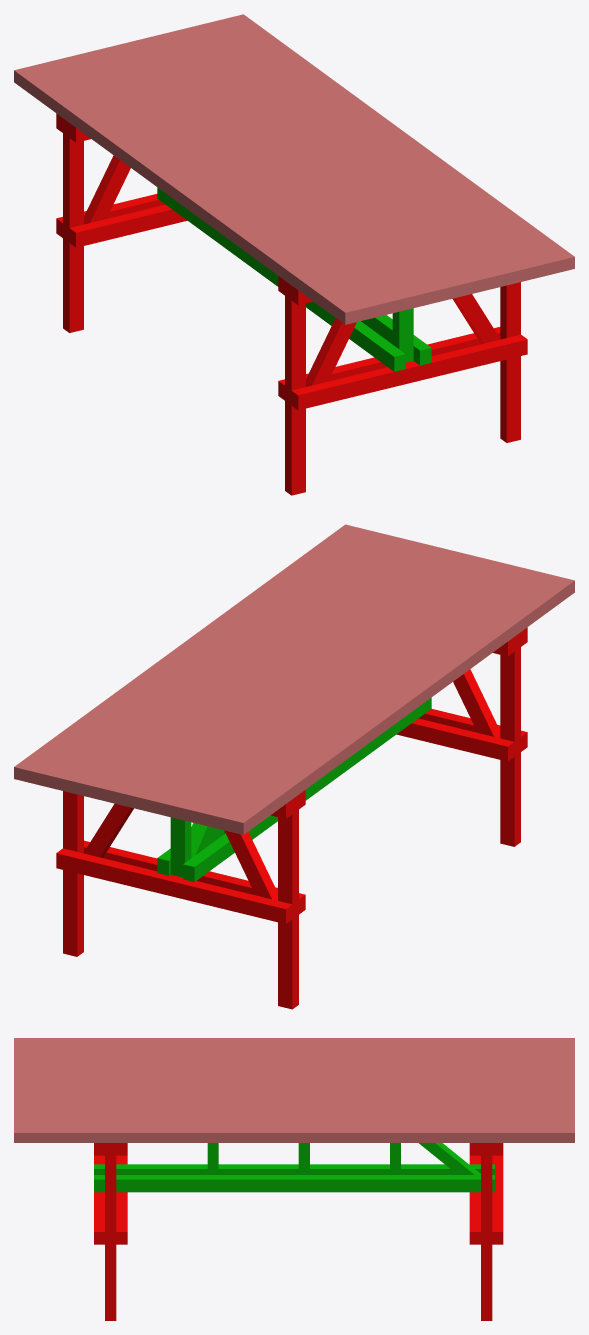
File: result.glb
The picture shows the model from 3 angles, top to bottom: view 1: azimuth 30°, elevation 25°; view 2: azimuth 150°, elevation 25°; view 3: azimuth 270°, elevation 25°; orthographic projection. The views are drawn at different scales.
Visible parts, largest first — view 1: db87daca-7387-42b3-b052-a788a2ffa1ed__Box, 322b1829-1d31-4ab4-bfac-1ec1c9b10a46__undefined, b68b924e-3d7e-4041-be38-fa900cd23723__undefined, 93b3291d-a487-42b8-a0b8-5192d35df765__undefined, 0d911585-d9e5-47ca-8335-31fbc21edb9f__undefined, 571bcf35-a337-41b6-bb2f-f9b731a2323b__undefined, 689d355f-c28f-4dd9-9fc5-7665edeaef11__undefined, e8cfa7c3-8795-4a7b-b33f-64b622ad8b55__undefined, 1eccc771-04fa-4407-ba38-74690a9849d8__undefined, f2e4cf11-1a68-4cc5-aa6c-75df8f19dbbe__undefined, a9ff9a3c-edf0-4454-99e6-d11019cb9039__undefined, bf882b4b-d7b8-426d-a3a2-a752a8e84e41__undefined (+17 smaller); view 2: db87daca-7387-42b3-b052-a788a2ffa1ed__Box, c999f0aa-ce46-4e7f-8f71-f943f68a17f7__undefined, 93b3291d-a487-42b8-a0b8-5192d35df765__undefined, a9ff9a3c-edf0-4454-99e6-d11019cb9039__undefined, b68b924e-3d7e-4041-be38-fa900cd23723__undefined, 571bcf35-a337-41b6-bb2f-f9b731a2323b__undefined, 80703927-08ad-4eda-bd57-ac3aa9b2250d__undefined, 689d355f-c28f-4dd9-9fc5-7665edeaef11__undefined, 237e048d-c541-4504-8d60-b9554f3b9e59__undefined, fac40c47-d0f8-4bc3-a3a0-9054fa31c8b9__undefined, 0d911585-d9e5-47ca-8335-31fbc21edb9f__undefined, 1e1f6225-e174-405a-a6c0-046cbddf5c19__undefined (+16 smaller); view 3: 0d911585-d9e5-47ca-8335-31fbc21edb9f__undefined, 77f3f758-c9be-4143-b099-3e19cd5e8864__strutH, 322b1829-1d31-4ab4-bfac-1ec1c9b10a46__undefined, 571bcf35-a337-41b6-bb2f-f9b731a2323b__undefined, 689d355f-c28f-4dd9-9fc5-7665edeaef11__undefined, e8cfa7c3-8795-4a7b-b33f-64b622ad8b55__undefined, 93b3291d-a487-42b8-a0b8-5192d35df765__undefined, 1e1f6225-e174-405a-a6c0-046cbddf5c19__undefined, 1eccc771-04fa-4407-ba38-74690a9849d8__undefined, 80703927-08ad-4eda-bd57-ac3aa9b2250d__undefined, 144e31b2-8e59-41a8-9036-b15721f3a0d5__strutH, db87daca-7387-42b3-b052-a788a2ffa1ed__Box (+15 smaller).
Boxes of the visible parts, x1,y1,x2,y2 form: db87daca-7387-42b3-b052-a788a2ffa1ed__Box: [14, 67, 359, 324]; 322b1829-1d31-4ab4-bfac-1ec1c9b10a46__undefined: [57, 56, 402, 314]; b68b924e-3d7e-4041-be38-fa900cd23723__undefined: [28, 63, 373, 321]; 93b3291d-a487-42b8-a0b8-5192d35df765__undefined: [115, 42, 460, 300]; 0d911585-d9e5-47ca-8335-31fbc21edb9f__undefined: [229, 14, 574, 272]; 571bcf35-a337-41b6-bb2f-f9b731a2323b__undefined: [72, 53, 416, 310]; 689d355f-c28f-4dd9-9fc5-7665edeaef11__undefined: [86, 49, 431, 307]; e8cfa7c3-8795-4a7b-b33f-64b622ad8b55__undefined: [100, 46, 445, 303]; 1eccc771-04fa-4407-ba38-74690a9849d8__undefined: [143, 35, 488, 292]; f2e4cf11-1a68-4cc5-aa6c-75df8f19dbbe__undefined: [186, 25, 531, 282]; a9ff9a3c-edf0-4454-99e6-d11019cb9039__undefined: [201, 21, 546, 279]; bf882b4b-d7b8-426d-a3a2-a752a8e84e41__undefined: [215, 18, 560, 275]; db87daca-7387-42b3-b052-a788a2ffa1ed__Box: [229, 577, 574, 834]; c999f0aa-ce46-4e7f-8f71-f943f68a17f7__undefined: [56, 848, 292, 924]; 93b3291d-a487-42b8-a0b8-5192d35df765__undefined: [128, 552, 473, 810]; a9ff9a3c-edf0-4454-99e6-d11019cb9039__undefined: [42, 531, 387, 789]; b68b924e-3d7e-4041-be38-fa900cd23723__undefined: [215, 573, 559, 831]; 571bcf35-a337-41b6-bb2f-f9b731a2323b__undefined: [172, 563, 517, 820]; 80703927-08ad-4eda-bd57-ac3aa9b2250d__undefined: [85, 542, 430, 799]; 689d355f-c28f-4dd9-9fc5-7665edeaef11__undefined: [157, 559, 502, 817]; 237e048d-c541-4504-8d60-b9554f3b9e59__undefined: [200, 570, 545, 827]; fac40c47-d0f8-4bc3-a3a0-9054fa31c8b9__undefined: [71, 538, 416, 796]; 0d911585-d9e5-47ca-8335-31fbc21edb9f__undefined: [14, 524, 358, 782]; 1e1f6225-e174-405a-a6c0-046cbddf5c19__undefined: [114, 549, 459, 806]; 0d911585-d9e5-47ca-8335-31fbc21edb9f__undefined: [14, 1127, 574, 1142]; 77f3f758-c9be-4143-b099-3e19cd5e8864__strutH: [94, 1175, 494, 1192]; 322b1829-1d31-4ab4-bfac-1ec1c9b10a46__undefined: [14, 1055, 574, 1061]; 571bcf35-a337-41b6-bb2f-f9b731a2323b__undefined: [14, 1061, 574, 1067]; 689d355f-c28f-4dd9-9fc5-7665edeaef11__undefined: [14, 1067, 574, 1073]; e8cfa7c3-8795-4a7b-b33f-64b622ad8b55__undefined: [14, 1073, 574, 1079]; 93b3291d-a487-42b8-a0b8-5192d35df765__undefined: [14, 1079, 574, 1085]; 1e1f6225-e174-405a-a6c0-046cbddf5c19__undefined: [14, 1085, 574, 1091]; 1eccc771-04fa-4407-ba38-74690a9849d8__undefined: [14, 1091, 574, 1097]; 80703927-08ad-4eda-bd57-ac3aa9b2250d__undefined: [14, 1097, 574, 1103]; 144e31b2-8e59-41a8-9036-b15721f3a0d5__strutH: [94, 1164, 494, 1174]; db87daca-7387-42b3-b052-a788a2ffa1ed__Box: [14, 1038, 574, 1043].
Size of the model in its own units: 800 by 740 by 2000.
